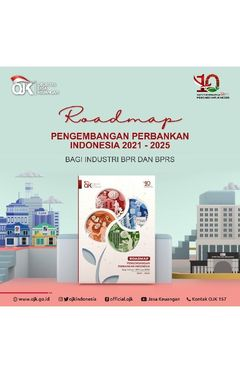ojk: (6, 73, 63, 97)
